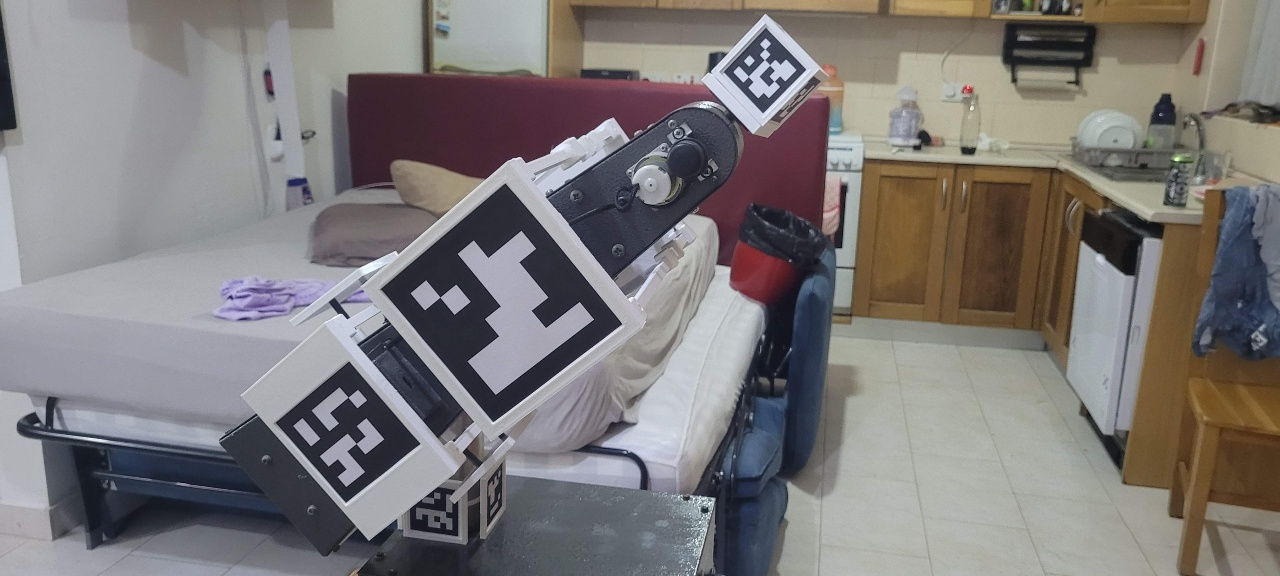Robot: (220, 11, 830, 557)
